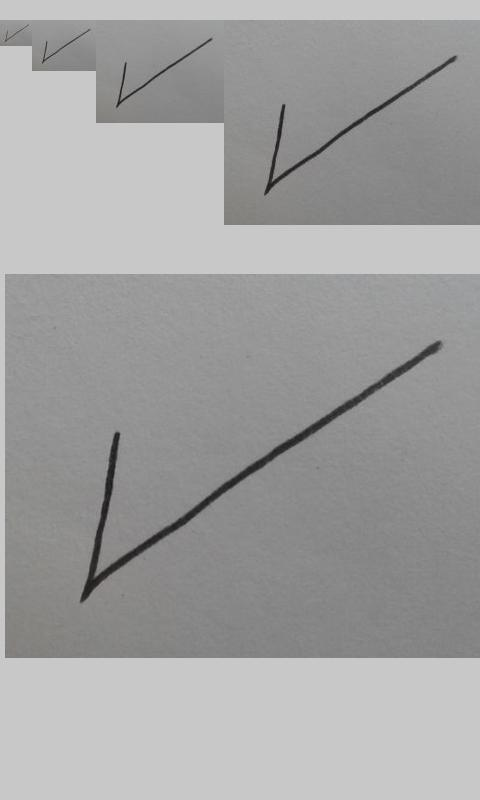check_box: (81, 339, 442, 602), (264, 55, 458, 194), (116, 38, 212, 107), (42, 29, 90, 63), (5, 27, 25, 42)
